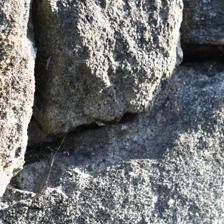Crack: (0, 93, 124, 150), (0, 38, 75, 117)
